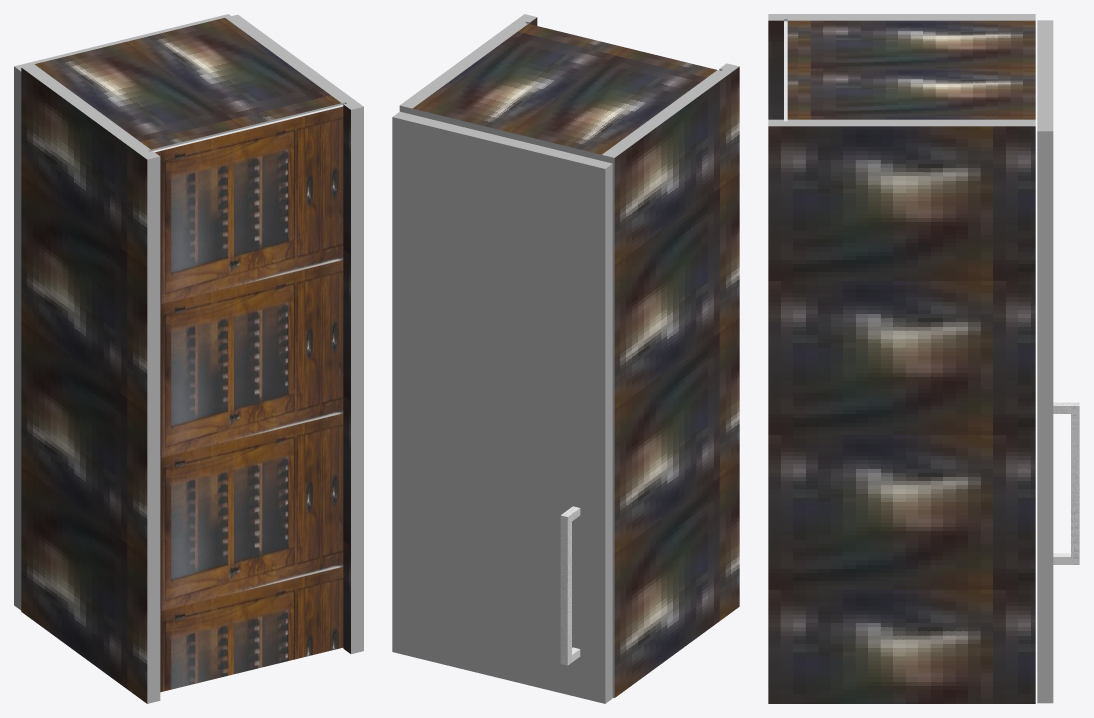
The picture shows the model from 3 angles, left to right: view 1: azimuth 30°, elevation 25°; view 2: azimuth 150°, elevation 25°; view 3: azimuth 270°, elevation 25°; orthographic projection. The views are drawn at different scales.
Visible parts, largest first — view 1: mesh1_mesh1-geometry, mesh3_mesh3-geometry, mesh15_mesh15-geometry, mesh11_mesh11-geometry, mesh18_mesh18-geometry; view 2: mesh18_mesh18-geometry, mesh3_mesh3-geometry, mesh15_mesh15-geometry, mesh21_mesh21-geometry, mesh11_mesh11-geometry; view 3: mesh11_mesh11-geometry, mesh15_mesh15-geometry, mesh18_mesh18-geometry, mesh3_mesh3-geometry, mesh21_mesh21-geometry.
Boxes of the visible parts, x1=… form: mesh1_mesh1-geometry: x1=153, y1=105, x2=343, y2=692; mesh3_mesh3-geometry: x1=21, y1=64, x2=160, y2=703; mesh15_mesh15-geometry: x1=34, y1=18, x2=341, y2=151; mesh11_mesh11-geometry: x1=225, y1=14, x2=363, y2=653; mesh18_mesh18-geometry: x1=14, y1=14, x2=230, y2=610; mesh18_mesh18-geometry: x1=392, y1=111, x2=612, y2=703; mesh3_mesh3-geometry: x1=601, y1=63, x2=739, y2=697; mesh15_mesh15-geometry: x1=412, y1=24, x2=716, y2=160; mesh21_mesh21-geometry: x1=560, y1=512, x2=571, y2=665; mesh11_mesh11-geometry: x1=399, y1=14, x2=537, y2=114; mesh11_mesh11-geometry: x1=768, y1=119, x2=1035, y2=703; mesh15_mesh15-geometry: x1=787, y1=20, x2=1035, y2=119; mesh18_mesh18-geometry: x1=1037, y1=20, x2=1053, y2=703; mesh3_mesh3-geometry: x1=768, y1=14, x2=1035, y2=119; mesh21_mesh21-geometry: x1=1071, y1=402, x2=1079, y2=564.
Size of the model in its own units: 0.3506 by 0.8414 by 0.4113.
